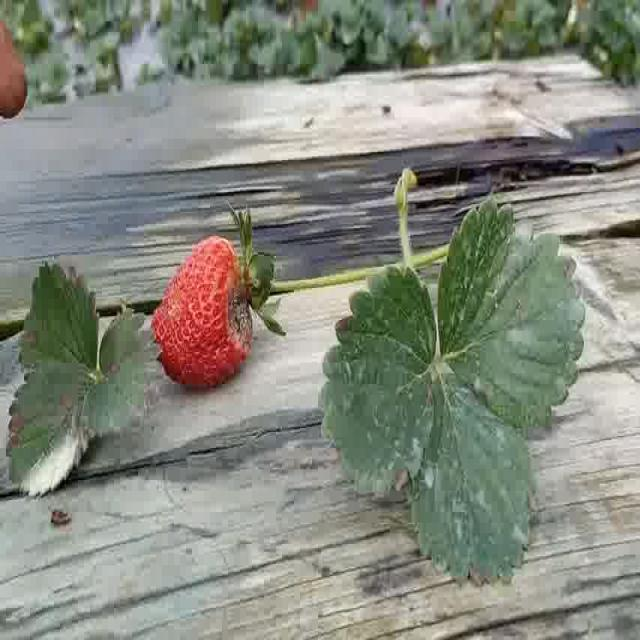Mancha negra Antracnosis: (143, 232, 257, 386)
